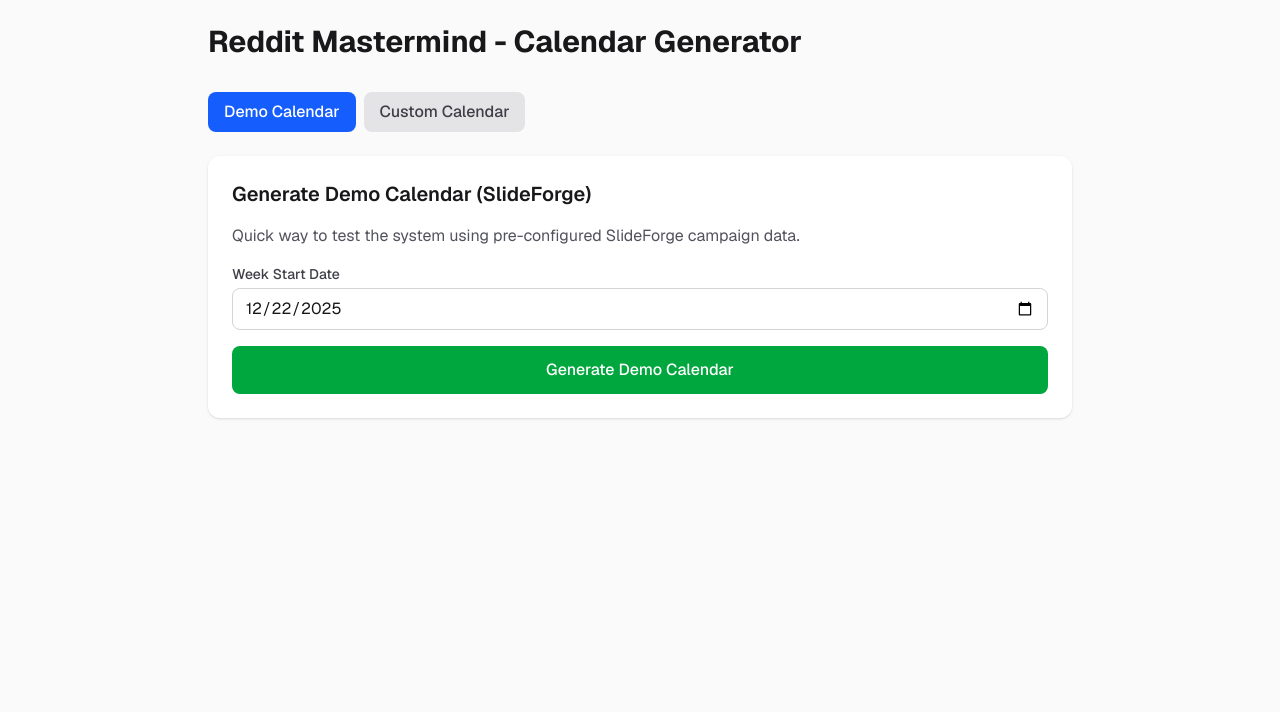
Test case: Page › allows adding and removing subreddits
This screenshot has width=1280, height=712.
Click the button "Custom Calendar". click: click(444, 112)
box: x1=364 y1=92 x2=526 y2=132
(page scrolled)
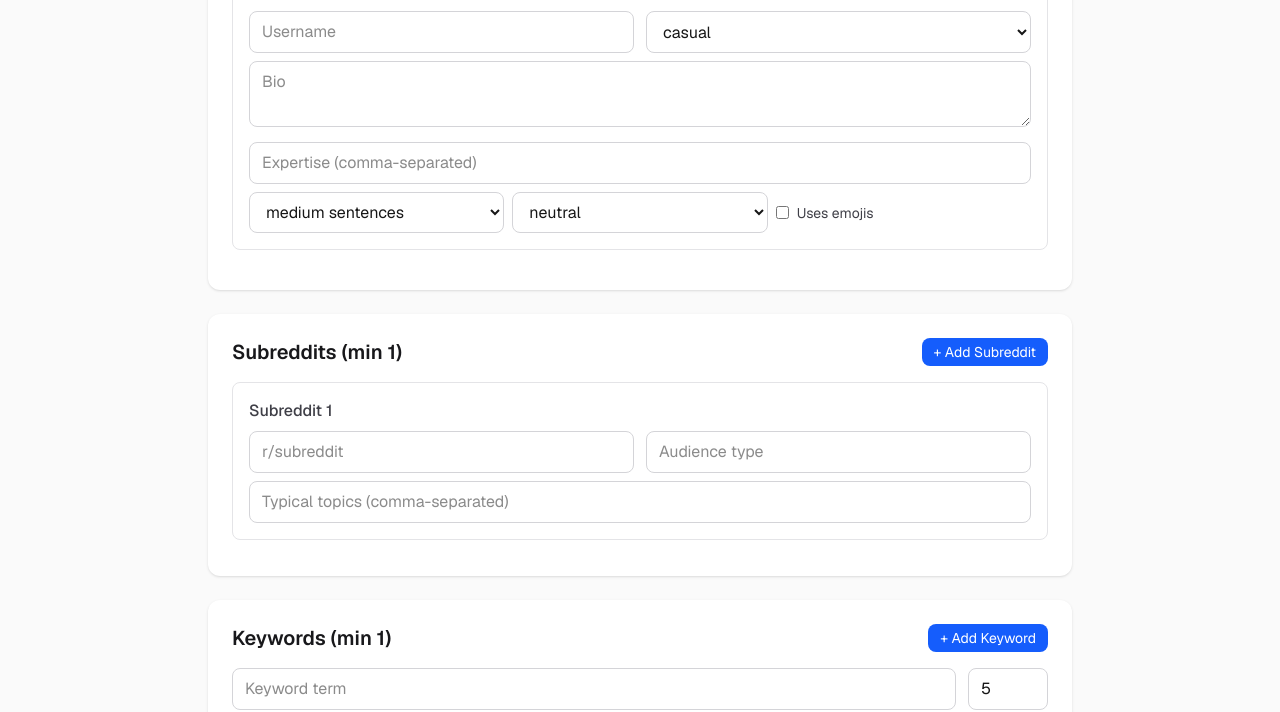
Click the button "+ Add Subreddit". click: click(985, 352)
box: x1=922 y1=338 x2=1048 y2=366
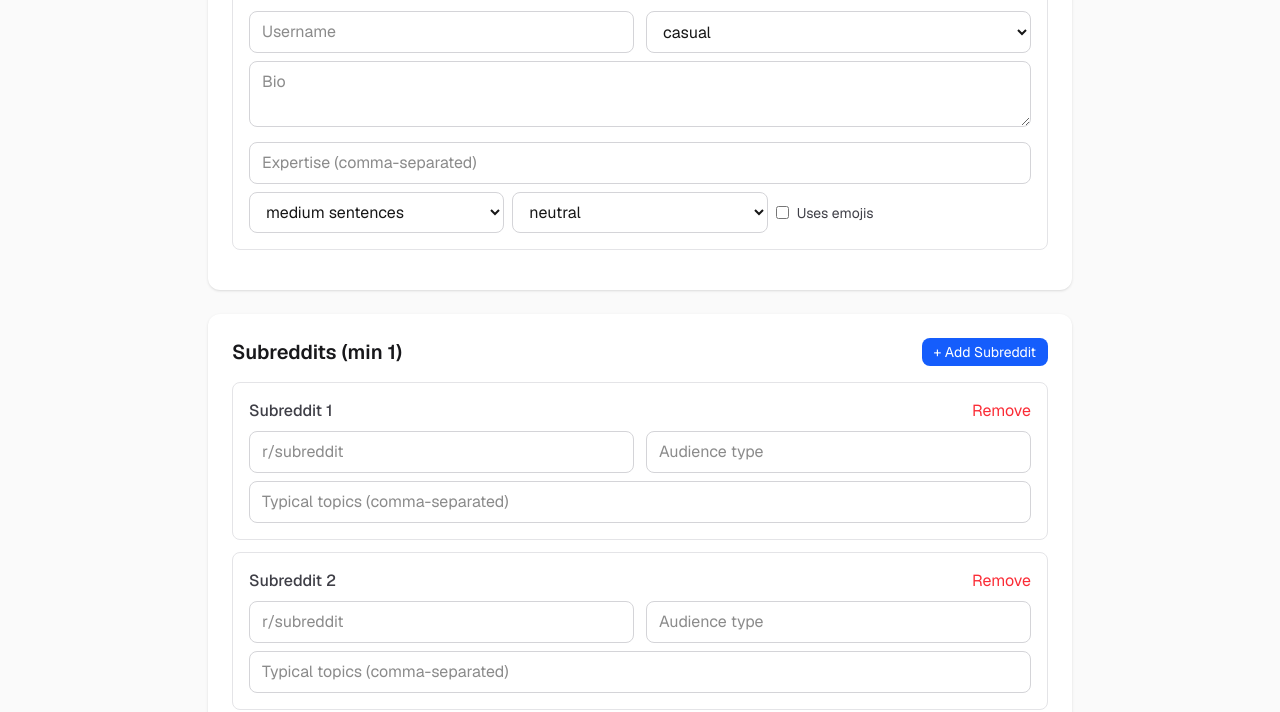
Now the text "Subreddit 2" is shown, box x1=249 y1=569 x2=336 y2=593
